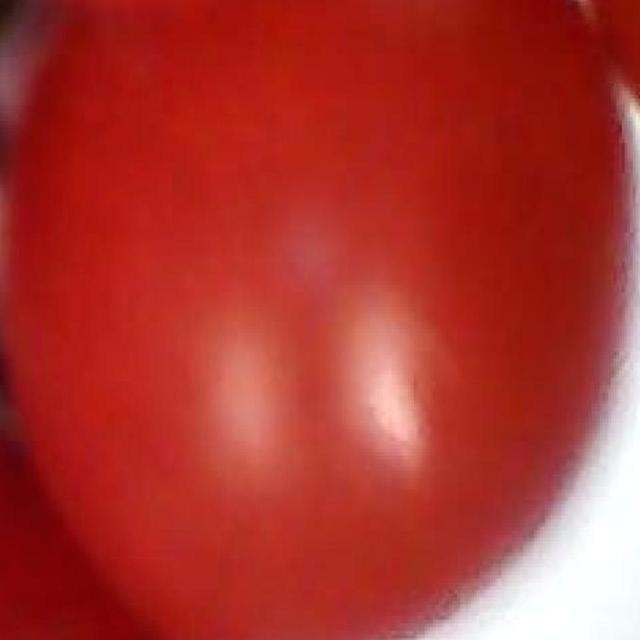Healthy Fruit: (8, 0, 420, 424)
